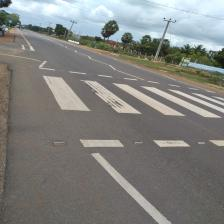crossing: (32, 66, 224, 150)
